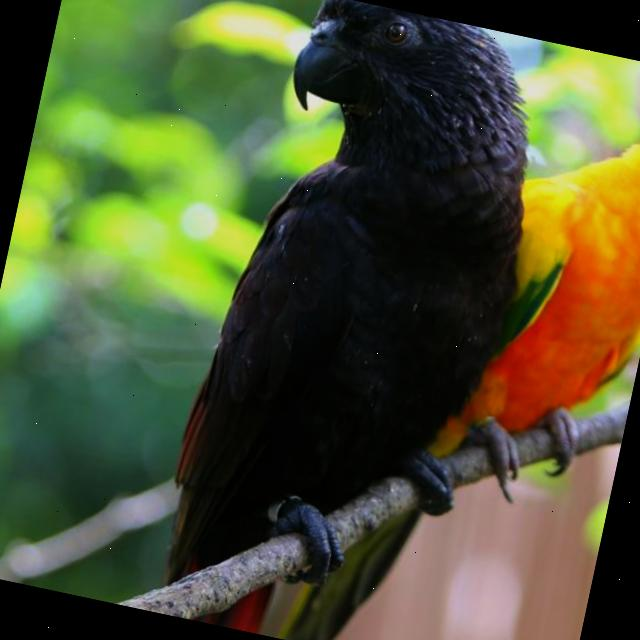Nuri Hitam: (133, 0, 564, 640)
